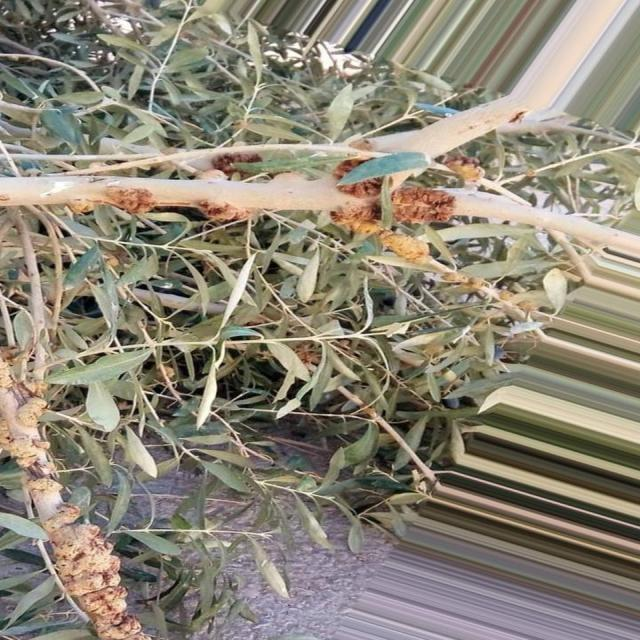Tuberculosis: (43, 504, 154, 640), (0, 352, 62, 503), (330, 200, 442, 270), (392, 187, 458, 226), (107, 186, 152, 215), (200, 202, 257, 222)
